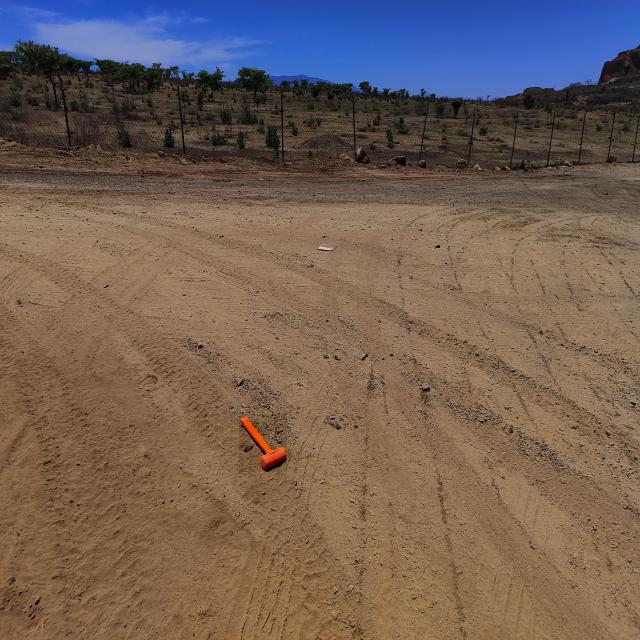Orange_hammer: (239, 414, 287, 472)
